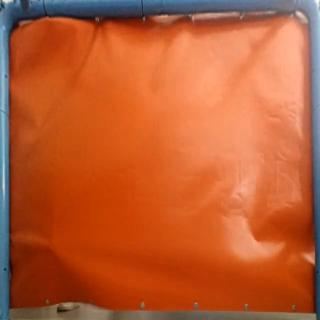Hit-hRxx: (44, 239, 62, 256)
